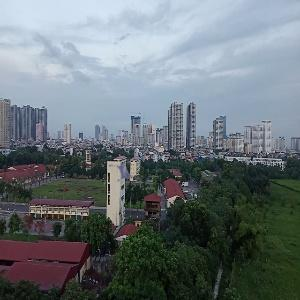drone: (112, 155, 149, 192)
